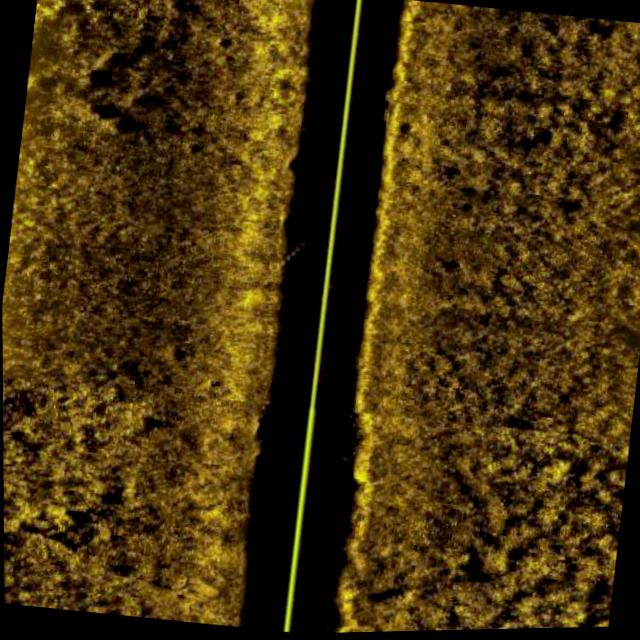mine: (54, 389, 78, 410)
